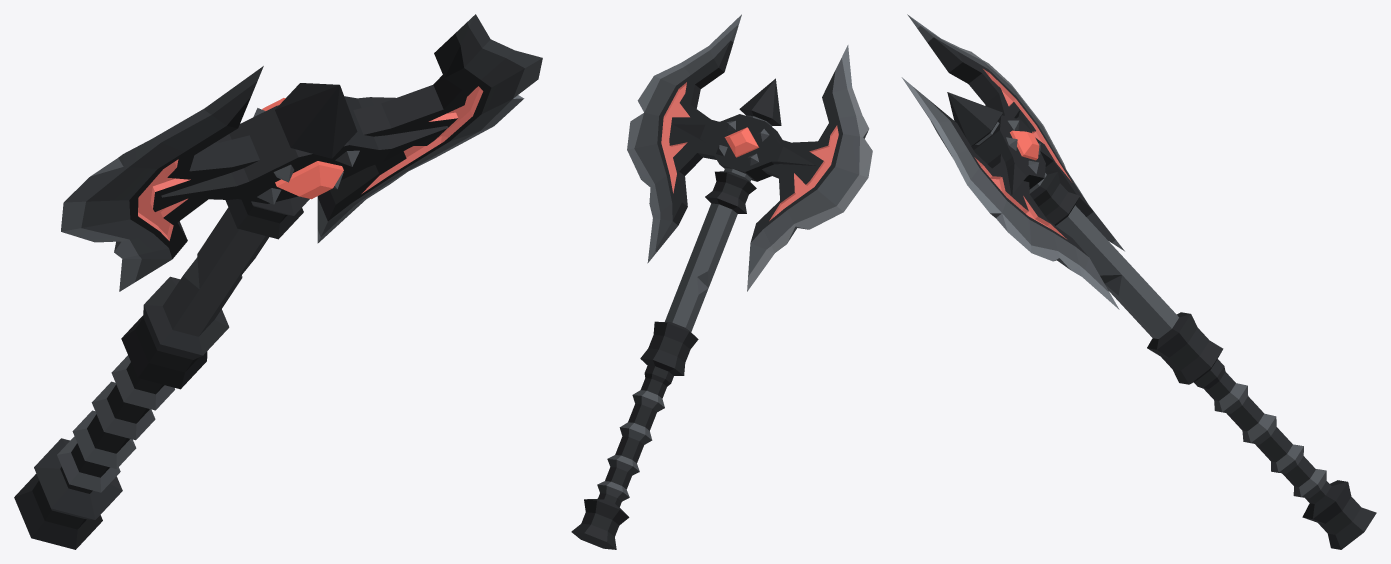
The model's file is dr-axe-large-06.glb.
The picture shows the model from 3 angles, left to right: view 1: azimuth 30°, elevation 25°; view 2: azimuth 150°, elevation 25°; view 3: azimuth 270°, elevation 25°; orthographic projection. The views are drawn at different scales.
Visible parts, largest first — view 1: dr-axe-large-06; view 2: dr-axe-large-06; view 3: dr-axe-large-06.
Boxes of the visible parts, x1,y1,x2,y2 form: dr-axe-large-06: [14, 14, 542, 549]; dr-axe-large-06: [571, 14, 872, 549]; dr-axe-large-06: [901, 14, 1376, 549].
Bounding box in the file's own units: 0.5025 × 0.7994 × 0.6992.
Materials: 1 (1 with a texture image).
